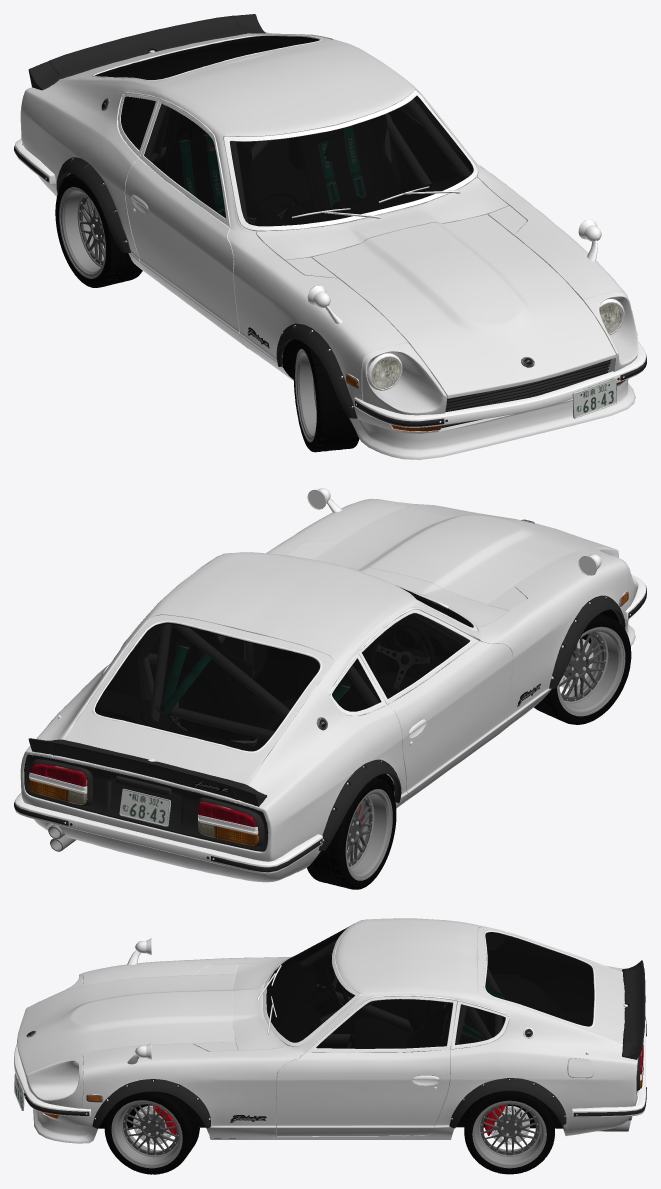
Rendered from Fairlady.glb.
The picture shows the model from 3 angles, top to bottom: view 1: azimuth 30°, elevation 25°; view 2: azimuth 150°, elevation 25°; view 3: azimuth 270°, elevation 25°; orthographic projection. The views are drawn at different scales.
Parts seen in each view (by area): view 1: paint-body, glass, int-plastics, ext-chromes, ext-plastics, paint-spoiler, tyres-front, rollcage, tyres-rear, mag-rim-rear, seatbelts, mag-rim-front (+3 smaller); view 2: paint-body, glass, ext-plastics, int-plastics, ext-chromes, rollcage, ext-lights, tyres-rear, mag-rim-front, mag-rim-rear, tyres-front, int-floors (+5 smaller); view 3: paint-body, glass, int-plastics, ext-chromes, ext-plastics, tyres-front, tyres-rear, mag-rim-front, mag-rim-rear, rollcage, mags-rear, mags-front (+4 smaller).
Boxes of the visible parts, box(x1,y1,x2,y2) form: paint-body: box(20, 32, 638, 433); glass: box(95, 36, 473, 226); int-plastics: box(67, 37, 475, 226); ext-chromes: box(14, 34, 646, 427); ext-plastics: box(14, 14, 646, 428); paint-spoiler: box(349, 379, 635, 459); tyres-front: box(293, 340, 359, 452); rollcage: box(144, 99, 470, 221); tyres-rear: box(55, 175, 142, 287); mag-rim-rear: box(59, 187, 105, 278); seatbelts: box(163, 126, 365, 217); mag-rim-front: box(295, 349, 316, 442); paint-body: box(20, 498, 638, 882); glass: box(95, 587, 473, 751); ext-plastics: box(14, 585, 646, 872); int-plastics: box(95, 597, 472, 750); ext-chromes: box(14, 488, 646, 874); rollcage: box(139, 614, 469, 738); ext-lights: box(29, 591, 628, 845); tyres-rear: box(307, 777, 396, 889); mag-rim-front: box(557, 626, 625, 716); mag-rim-rear: box(345, 789, 392, 880); tyres-front: box(534, 613, 631, 724); int-floors: box(251, 648, 316, 700); paint-body: box(17, 918, 638, 1139); glass: box(266, 926, 594, 1048); int-plastics: box(267, 932, 593, 1052); ext-chromes: box(14, 922, 646, 1119); ext-plastics: box(24, 960, 646, 1128); tyres-front: box(104, 1092, 199, 1174); tyres-rear: box(464, 1091, 554, 1174); mag-rim-front: box(111, 1100, 182, 1168); mag-rim-rear: box(472, 1100, 546, 1168); rollcage: box(300, 941, 503, 1045); mags-rear: box(480, 1104, 539, 1155); mags-front: box(123, 1103, 178, 1155).
Bounding box in the file's own units: 1.26 × 0.8269 × 2.8.
Materials: 31 (8 with a texture image).
